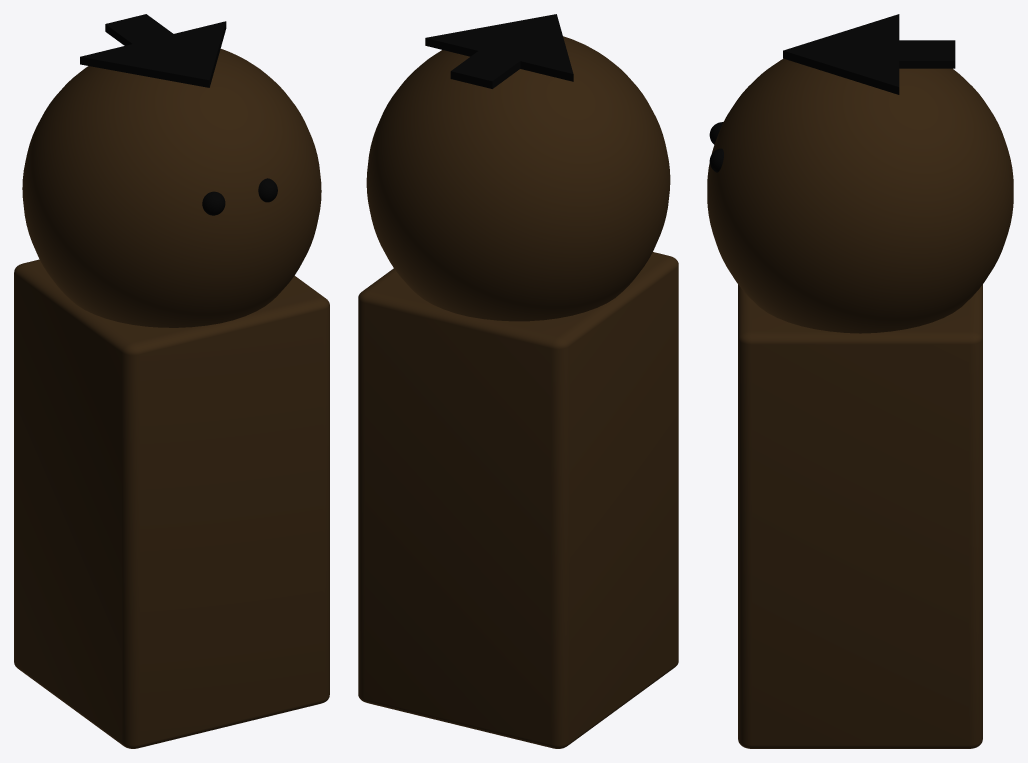
Rendered from 6brown.obj.
3 views of the same model, side by side, from view 1: azimuth 30°, elevation 25°; view 2: azimuth 150°, elevation 25°; view 3: azimuth 270°, elevation 25° (orthographic). The views are drawn at different scales.
Parts seen in each view (by area): view 1: Curve.004_Curve.007; view 2: Curve.004_Curve.007; view 3: Curve.004_Curve.007.
Part boxes in pixels (box(x1,y1,x2,y2)): Curve.004_Curve.007: box(14, 14, 329, 748); Curve.004_Curve.007: box(358, 14, 678, 748); Curve.004_Curve.007: box(707, 14, 1013, 748).
Bounding box in the file's own units: 0.2062 × 0.4815 × 0.2057.
